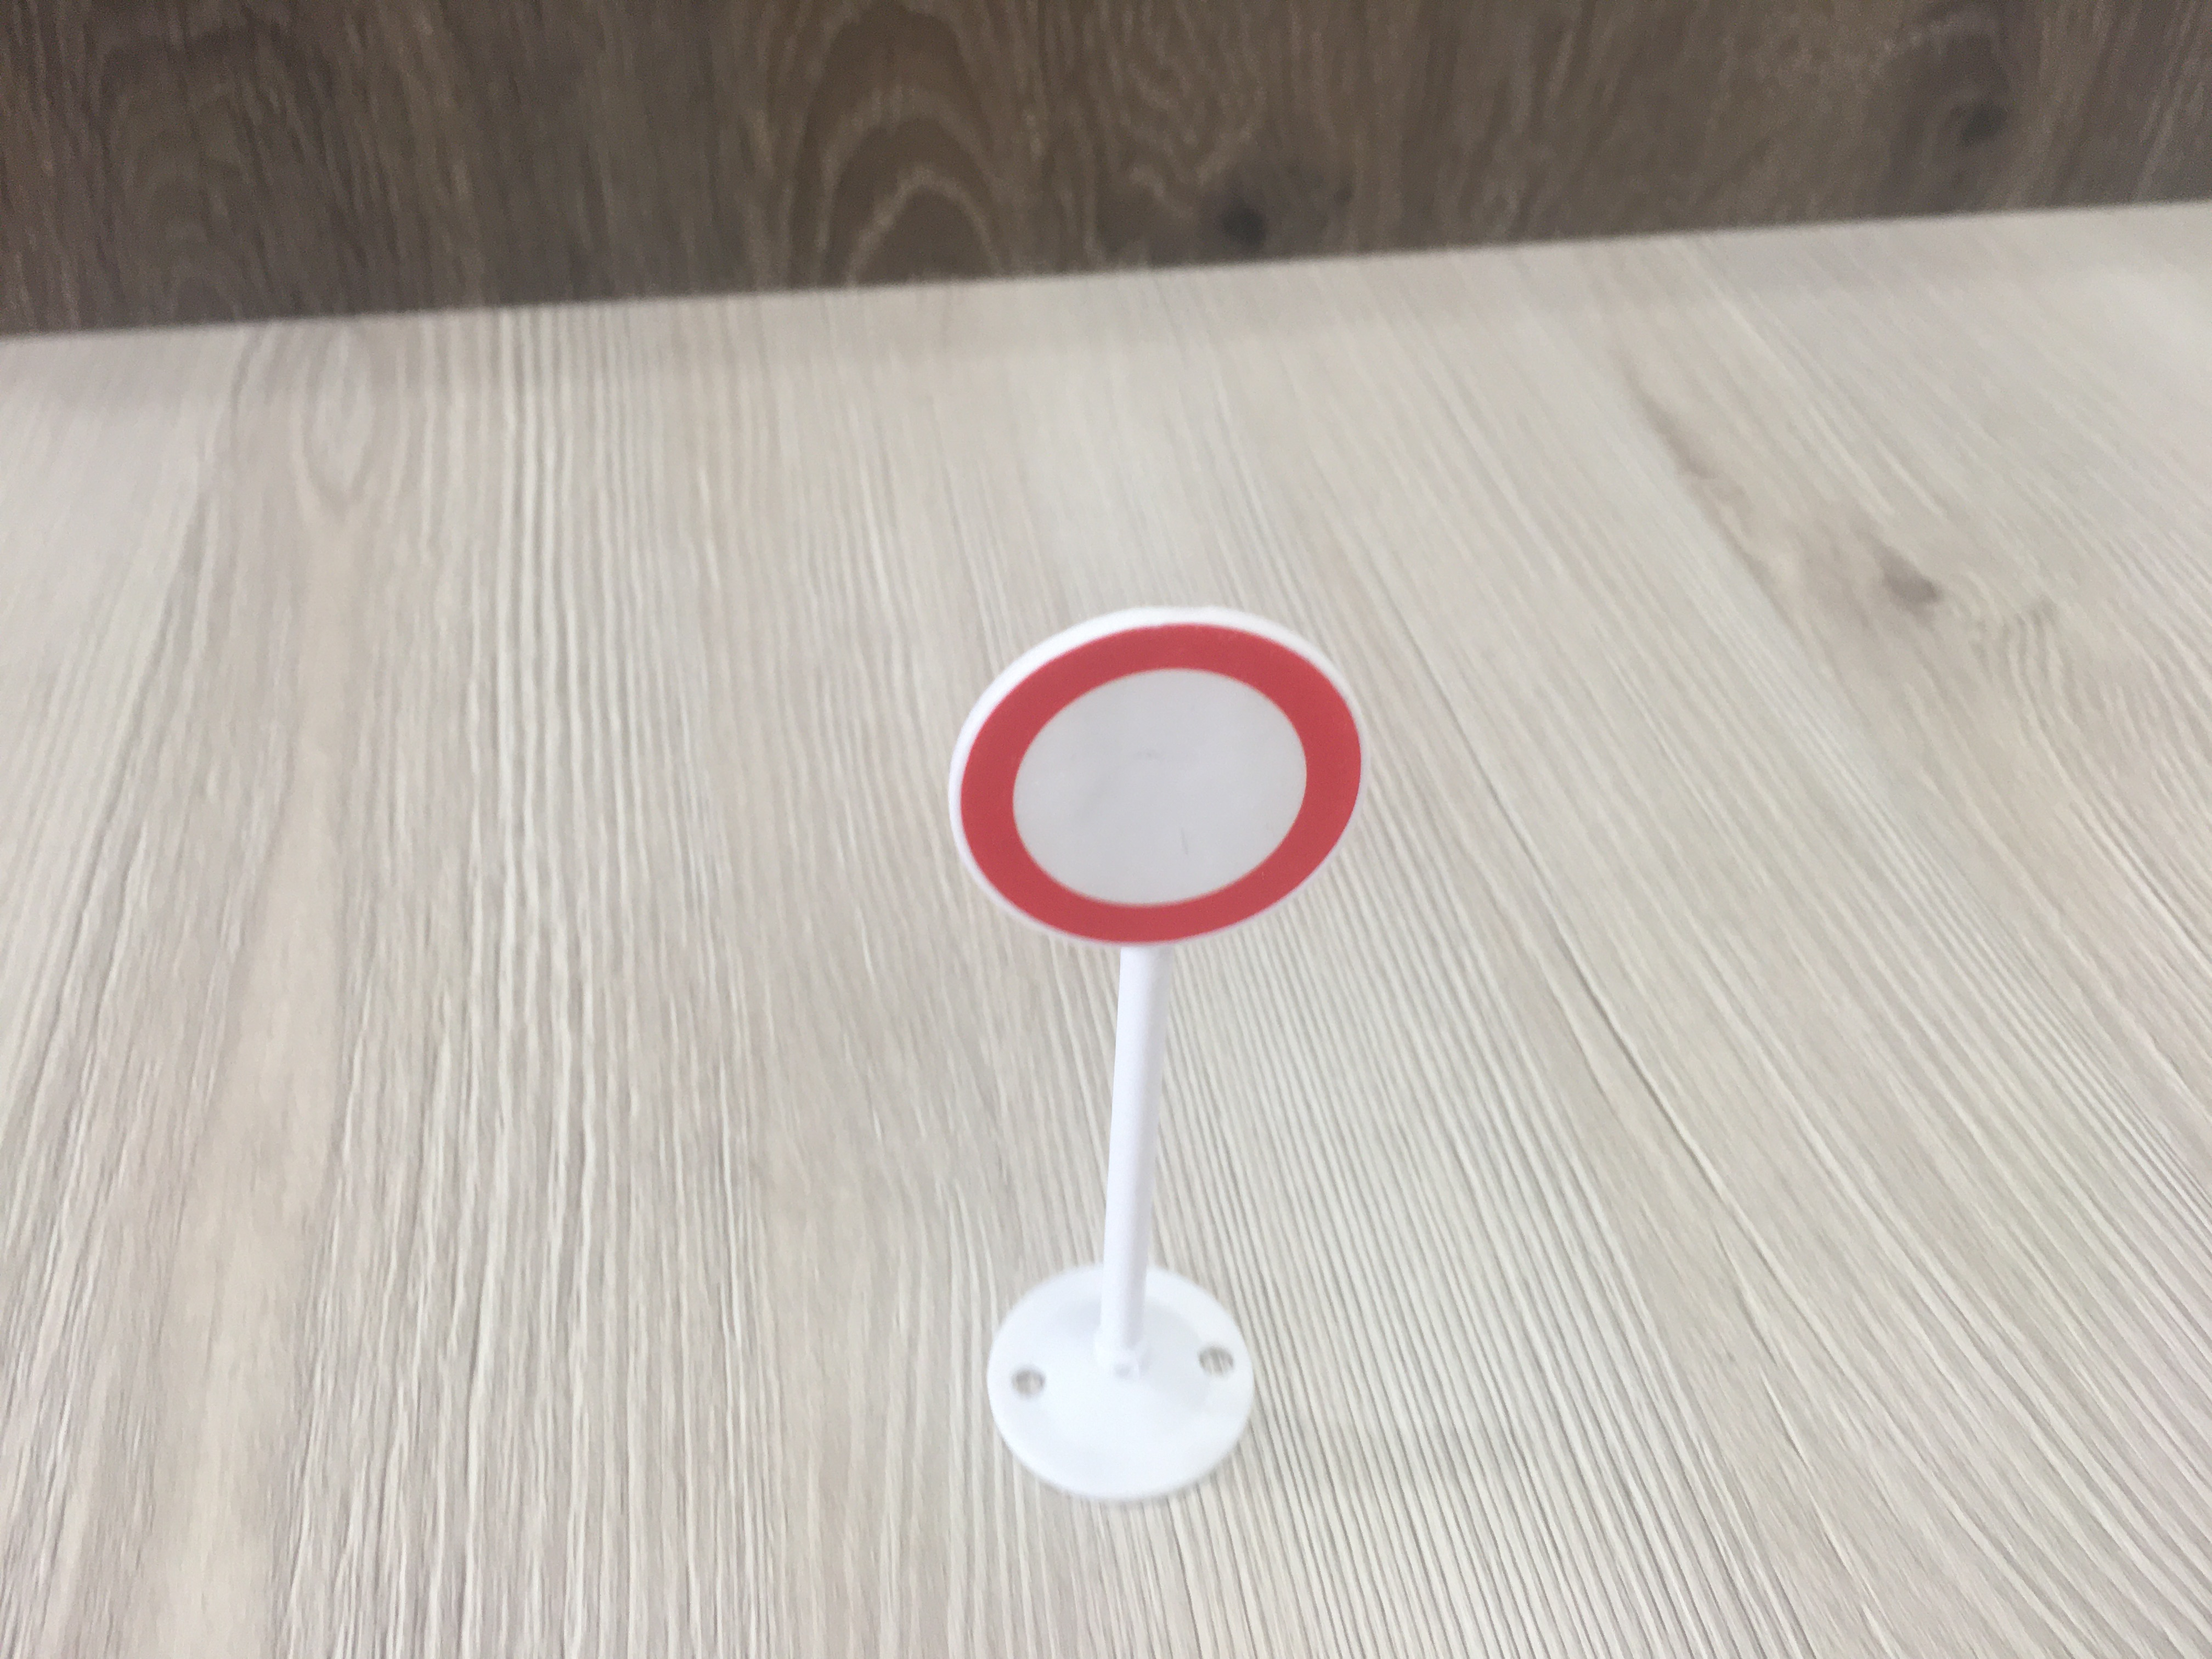noDrive: (948, 606, 1371, 950)
